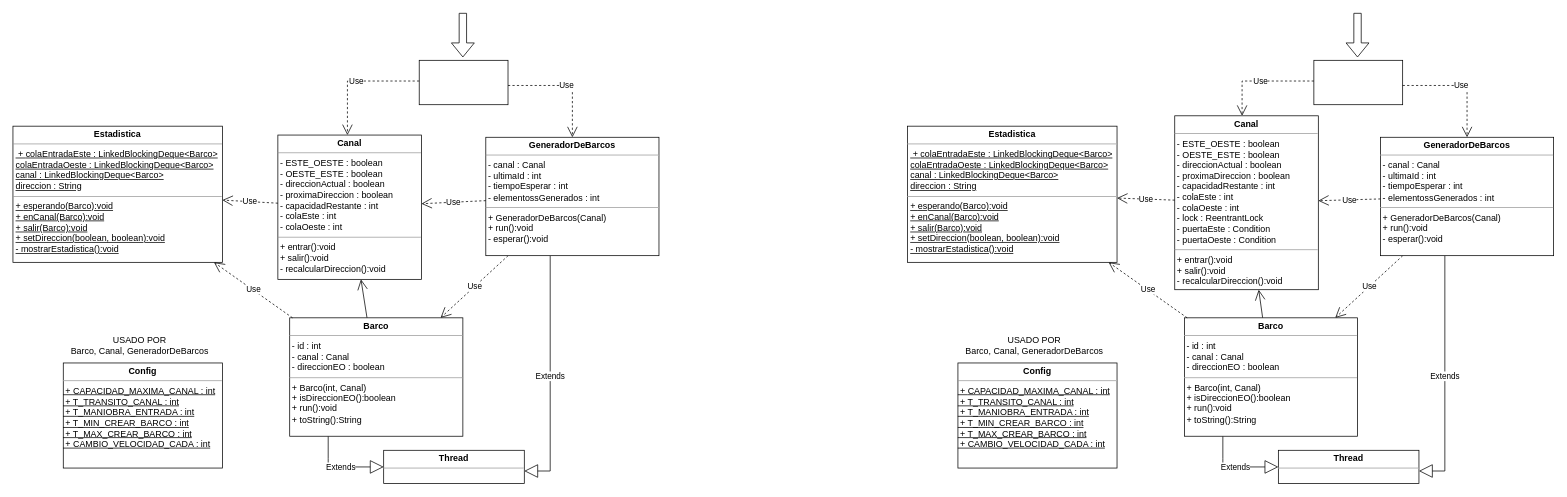
Image size: 1567x497. Some labels were removed from this diagram. The shapes that lost their labels are listed below. From the top down, each one's centre as x and y in pixels, then its label:
(x=463, y=82): Reto7_11_A + main(String)
(x=1358, y=82): Reto7_11_B + main(String)
